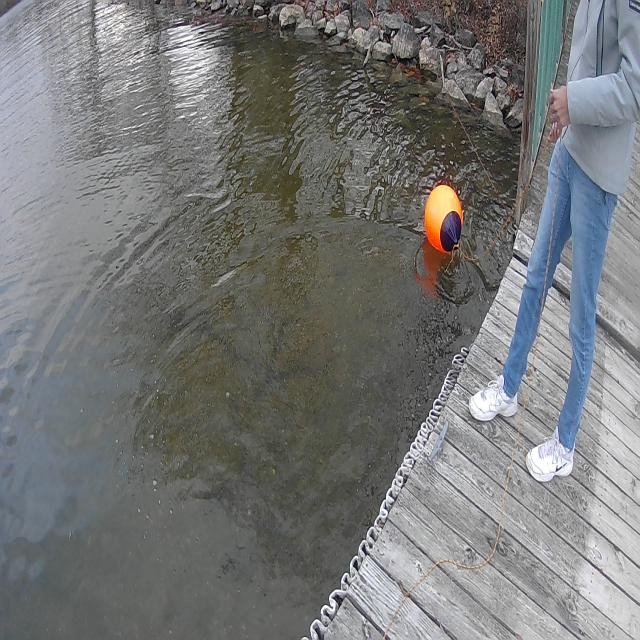Buoy: (420, 178, 468, 267)
